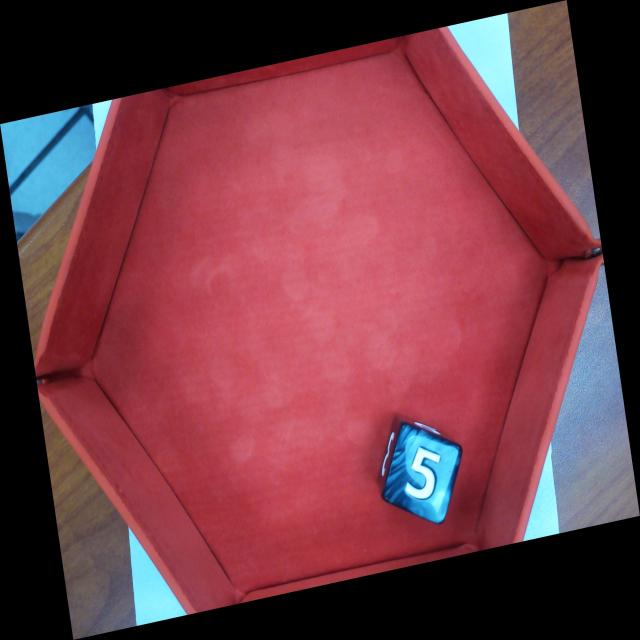dice: (378, 420, 464, 527)
